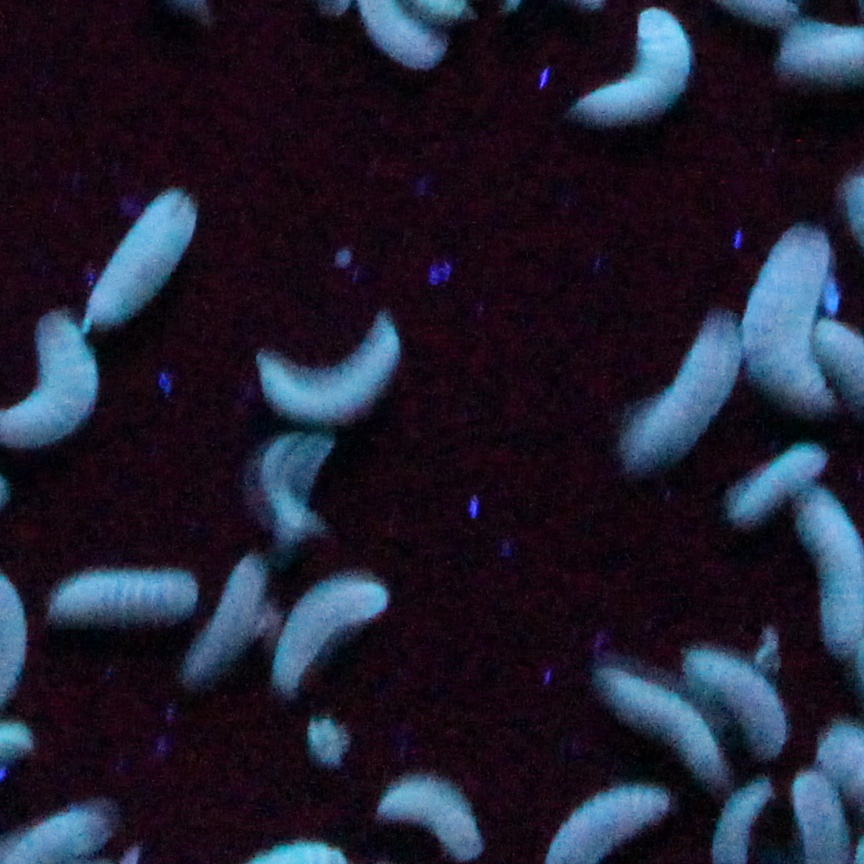larve: (615, 312, 744, 466), (81, 187, 196, 330), (600, 664, 731, 789), (254, 312, 400, 424), (271, 566, 392, 695), (752, 228, 833, 418), (579, 5, 696, 126), (185, 555, 269, 689), (690, 649, 790, 757), (246, 428, 333, 549), (373, 776, 490, 855), (723, 443, 827, 520), (44, 570, 204, 618)
